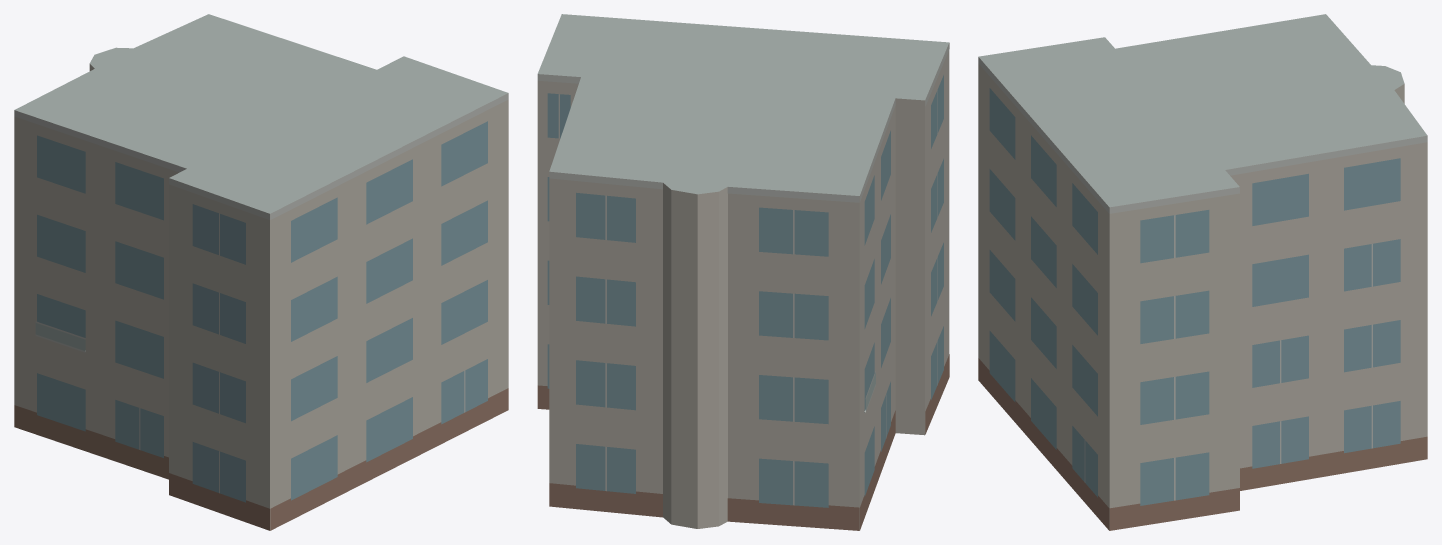
Rendered from survey-upis-32853951.glb.
The picture shows the model from 3 angles, left to right: view 1: azimuth 30°, elevation 25°; view 2: azimuth 150°, elevation 25°; view 3: azimuth 270°, elevation 25°; orthographic projection. The views are drawn at different scales.
Parts seen in each view (by area): view 1: survey-upis-32853951.tmp; view 2: survey-upis-32853951.tmp; view 3: survey-upis-32853951.tmp.
Part boxes in pixels (box(x1,y1,x2,y2)): survey-upis-32853951.tmp: box(14, 14, 508, 530); survey-upis-32853951.tmp: box(537, 14, 949, 530); survey-upis-32853951.tmp: box(978, 14, 1427, 530).
Bounding box in the file's own units: 15.52 × 12.1 × 15.24.
